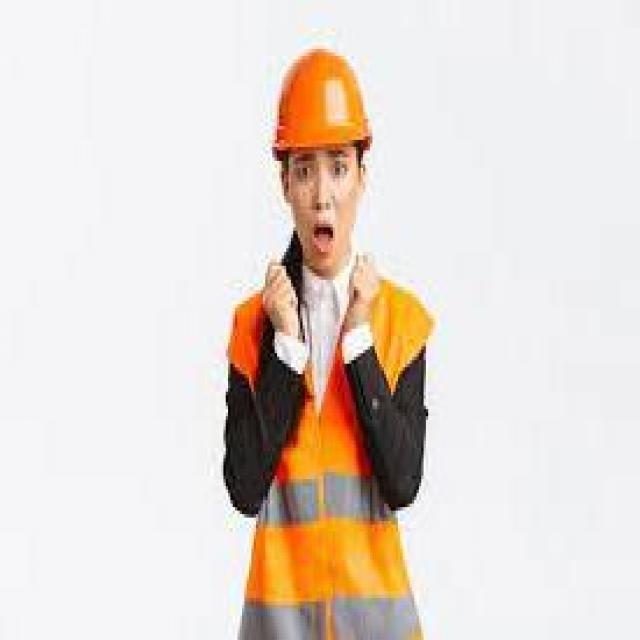Reflective-Jacket: (226, 266, 435, 629)
Safety-Helmet: (265, 42, 375, 161)
